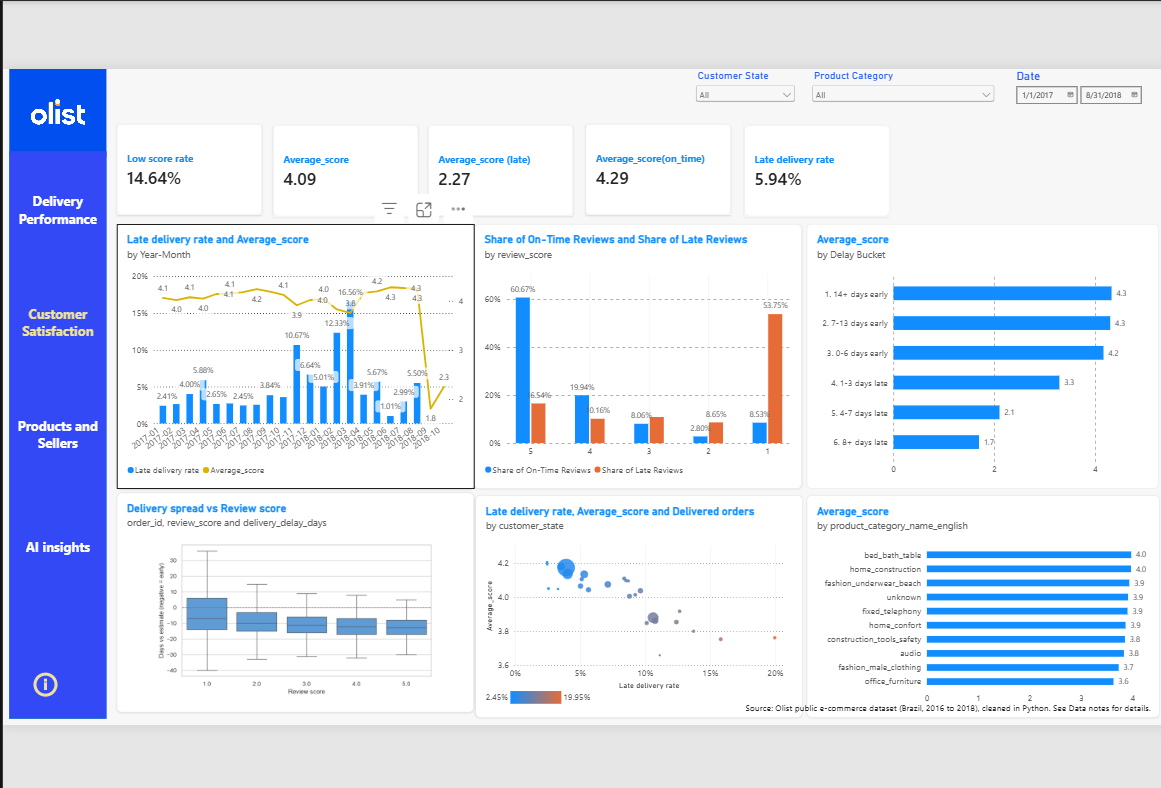

This screenshot's page, from the dashboard's own definition file:
{"tool":"powerbi","page":{"name":"Customer Satisfaction","canvas":[1920,1080],"ordinal":2},"visuals":[{"type":"cardVisual","title":"Card 2","fields":{"Data":["reviews.Average_score"]},"box":[444,92,239,150],"z":0},{"type":"cardVisual","title":"Card 3","fields":{"Data":["reviews.Average_score (late)"]},"box":[700,92,239.3,149.6],"z":1000},{"type":"cardVisual","title":"Card 4","fields":{"Data":["reviews.Average_score(on_time)"]},"box":[960,90,239,150],"z":2000},{"type":"cardVisual","title":"Card 5","fields":{"Data":["order_items.Late delivery rate"]},"box":[1219.6,92.8,239,150],"z":3000},{"type":"cardVisual","title":"Card 1","fields":{"Data":["reviews.Low score rate"]},"box":[188,90,239,150],"z":4000},{"type":"barChart","fields":{"Category":["orders.Delay Bucket"],"Y":["reviews.Average_score"]},"box":[1323.8,254.7,579.1,436],"z":5000},{"type":"clusteredColumnChart","fields":{"Category":["reviews.review_score"],"Y":["reviews.Share of Late Reviews","reviews.Share of Late Reviews1"]},"box":[776.2,254.7,539,436],"z":6000},{"type":"lineClusteredColumnComboChart","fields":{"Category":["Calendar.Year-Month"],"Y":["order_items.Late delivery rate"],"Y2":["reviews.Average_score"]},"box":[187.8,254.6,588.3,436.7],"z":7000},{"type":"scatterChart","fields":{"Category":["customers.customer_state"],"Size":["order_items.Delivered orders"],"X":["order_items.Late delivery rate"],"Y":["reviews.Average_score"]},"box":[777.9,701.2,538.3,366.7],"z":8000},{"type":"clusteredBarChart","fields":{"Category":["products.product_category_name_english"],"Y":["reviews.Average_score"]},"box":[1323.1,701.2,580.4,366.4],"z":9000},{"type":"image","box":[10,0,160,144],"z":11000},{"type":"shape","box":[10,136,160,934],"z":12000},{"type":"pageNavigator","box":[10,144,160,734],"z":13000},{"type":"actionButton","box":[10,962,119.4,105],"z":14000},{"type":"slicer","title":"Customer State","fields":{"Values":["customers.customer_state"]},"box":[1136.5,0,172.9,81.1],"z":15000},{"type":"slicer","title":"Product Category","fields":{"Values":["products.product_category_name_english"]},"box":[1327.4,0,309.8,68.4],"z":16000},{"type":"slicer","title":"Date","fields":{"Values":["Calendar.Date"]},"box":[1660.6,0,237.7,142.3],"z":17000},{"type":"textbox","box":[1222.5,1042.5,672.5,25],"z":18000}]}

Visuals, with their boxes on the page's 1920x1080 design canvas (x1, y1, x2, y2). These are canvas units, not pixel positions in the 1161x788 screenshot, which may show the page scaled, cropped or inside an application window:
"Card 2" cardVisual: <box>444,92,683,242</box>
"Card 3" cardVisual: <box>700,92,939,242</box>
"Card 4" cardVisual: <box>960,90,1199,240</box>
"Card 5" cardVisual: <box>1220,93,1459,243</box>
"Card 1" cardVisual: <box>188,90,427,240</box>
barChart - orders.Delay Bucket x reviews.Average_score: <box>1324,255,1903,691</box>
clusteredColumnChart - reviews.review_score x reviews.Share of Late Reviews: <box>776,255,1315,691</box>
lineClusteredColumnComboChart - Calendar.Year-Month x order_items.Late delivery rate: <box>188,255,776,691</box>
scatterChart - customers.customer_state x order_items.Delivered orders: <box>778,701,1316,1068</box>
clusteredBarChart - products.product_category_name_english x reviews.Average_score: <box>1323,701,1904,1068</box>
image: <box>10,0,170,144</box>
shape: <box>10,136,170,1070</box>
pageNavigator: <box>10,144,170,878</box>
actionButton: <box>10,962,129,1067</box>
"Customer State" slicer: <box>1136,0,1309,81</box>
"Product Category" slicer: <box>1327,0,1637,68</box>
"Date" slicer: <box>1661,0,1898,142</box>
textbox: <box>1222,1042,1895,1068</box>
